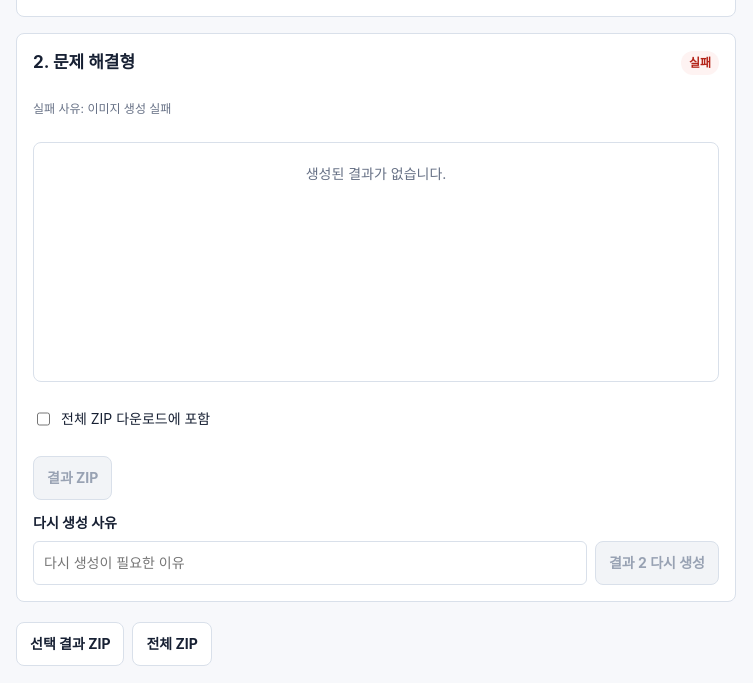
Test: AiContentGenerationPage › shows failed output reason and retry control updates output state after reasoned retry
(page scrolled)
Expected: the text "실패 사유: 이미지 생성 실패" is shown, x1=33 y1=101 x2=171 y2=116
Expected: the button "결과 2 다시 생성" is disabled, x1=595 y1=541 x2=719 y2=585
Type "이미지 구성 요소를 재생성해 주세요." into the field named "문제 해결형 다시 생성 사유" at x=310, y=563, box x1=33 y1=541 x2=587 y2=585
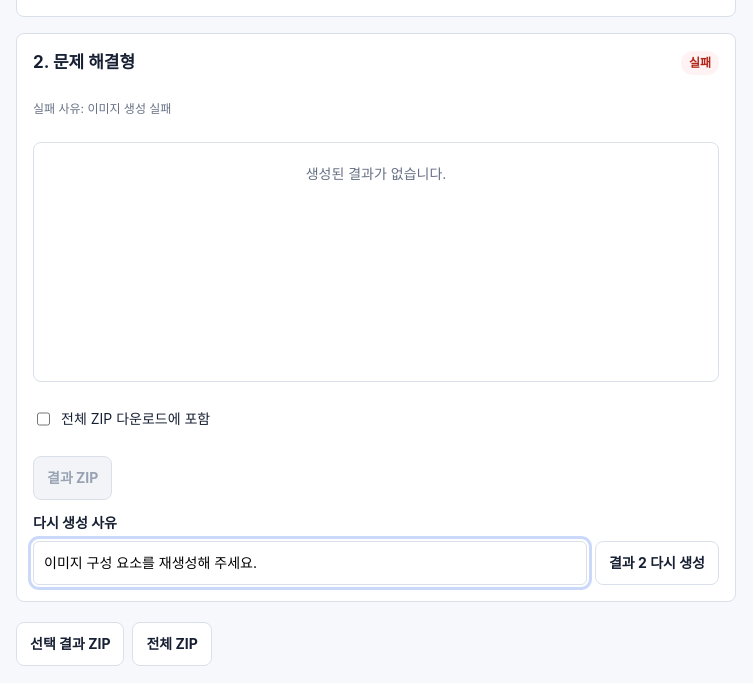
Expected: the button "결과 2 다시 생성" is enabled
Click the button "결과 2 다시 생성" at x=657, y=563, box x1=595 y1=541 x2=719 y2=585
(page scrolled)
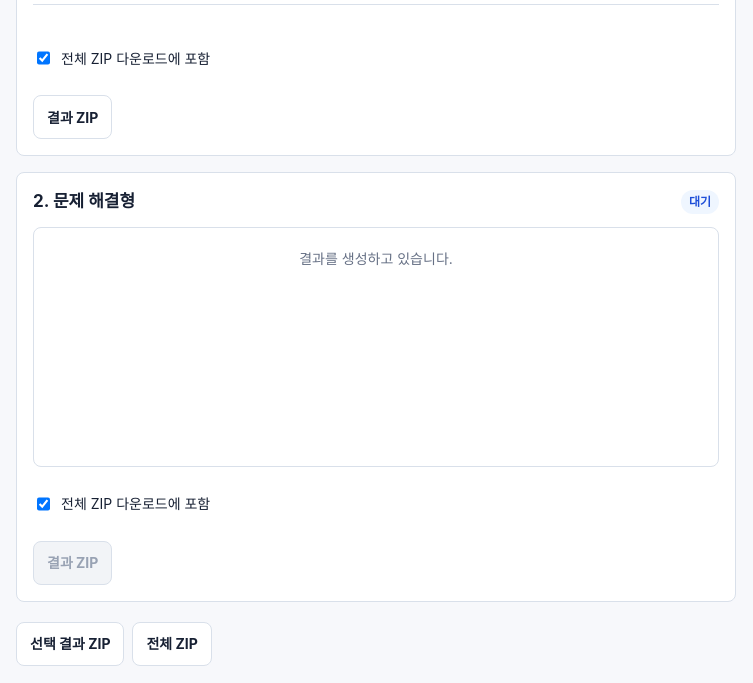
Expected: the text "대기" is shown, x1=681 y1=190 x2=719 y2=214
Expected: the button "결과 2 다시 생성" is gone
Expected: the text "실패 사유: 이미지 생성 실패" is gone
